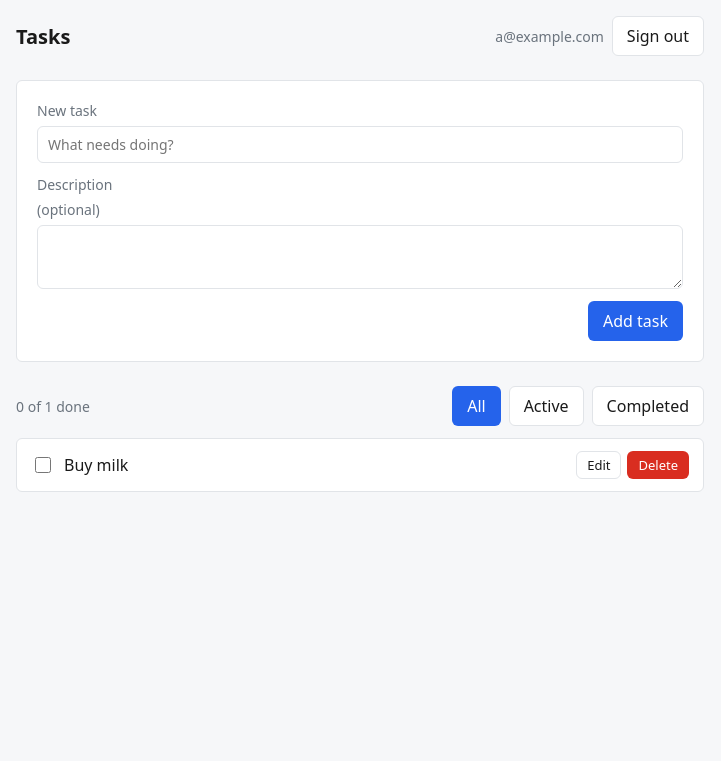
Test: TodosPage › preserves the edit draft when the save fails
The image size is (721, 761).
Check: the text "Buy milk" is shown, box [64,454,128,476]
Click the button "Edit" at (599, 465), box [576,451,622,479]
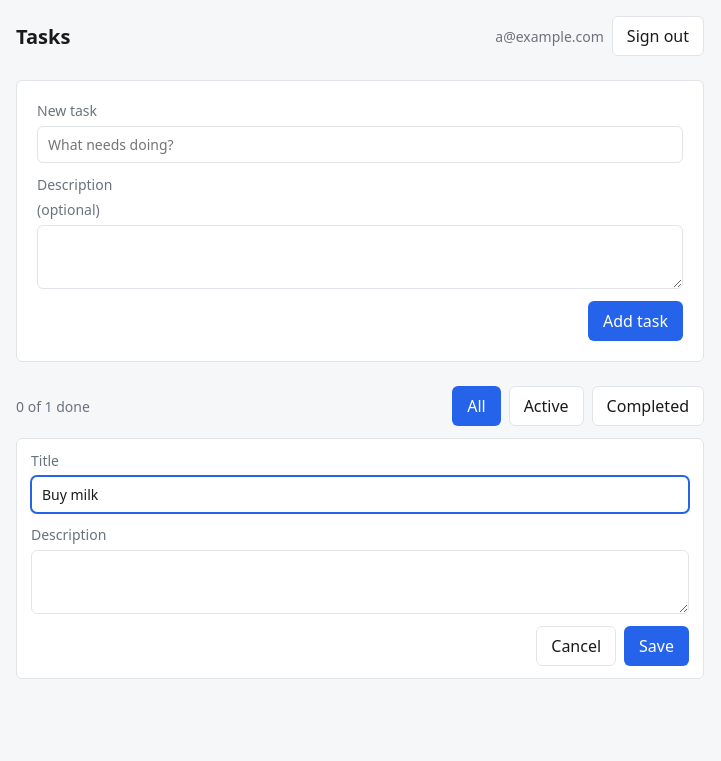
Replace the text in the field named "edit title" with "Buy oat milk" at (360, 494), box [31,476,689,513]
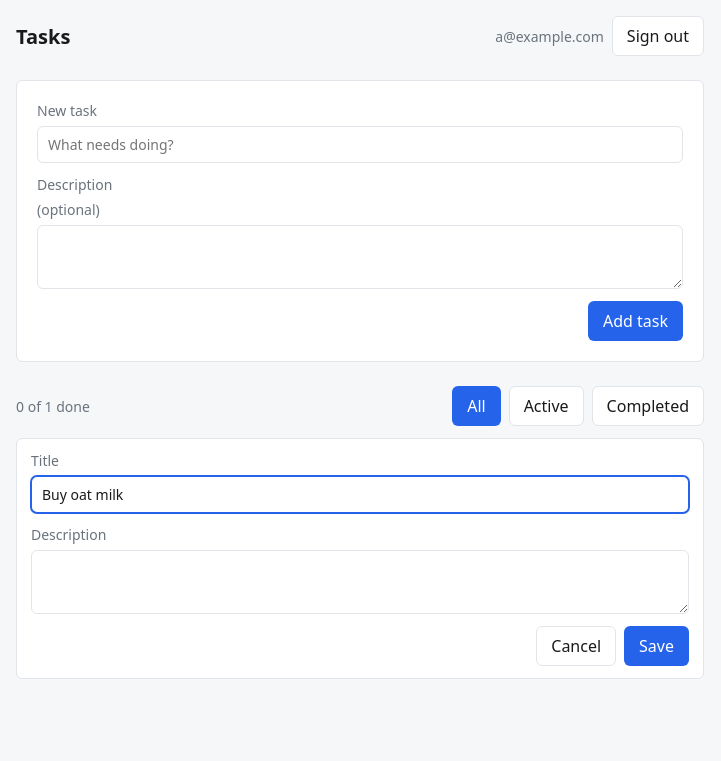
Click the button "Save" at (657, 646), box [624,626,689,666]
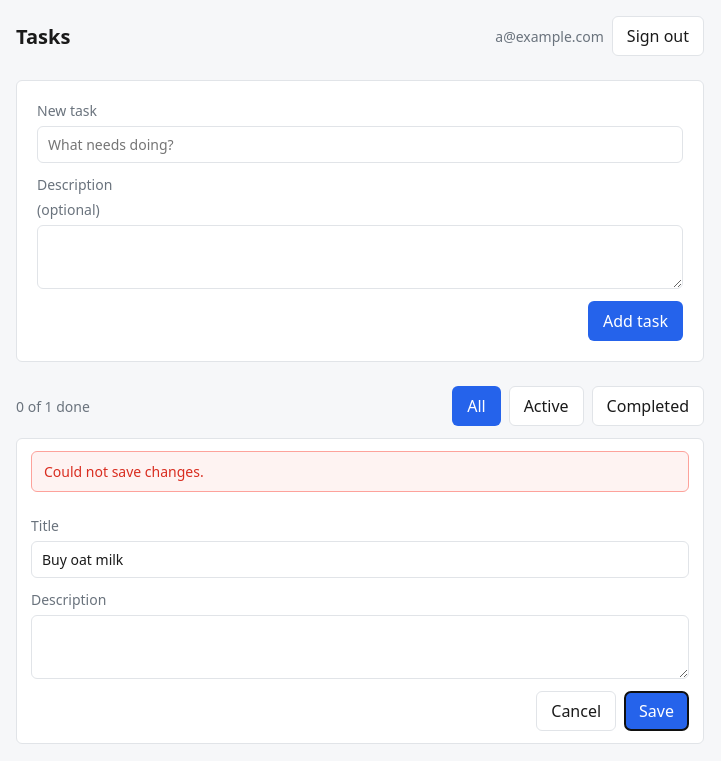
Check: the message shows "Could not save changes", box [44,462,204,481]
